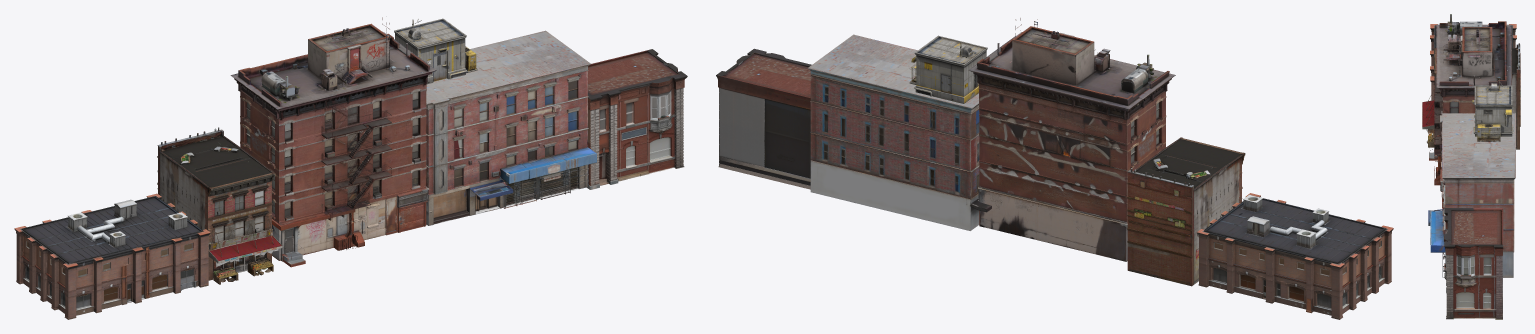
Rendered from All.fbx.
3 views of the same model, side by side, from view 1: azimuth 30°, elevation 25°; view 2: azimuth 150°, elevation 25°; view 3: azimuth 270°, elevation 25° (orthographic). The views are drawn at different scales.
Visible parts, largest first — view 1: base__3__Mesh, build6, build_5, build1, group14, base__1__Mesh; view 2: base__3__Mesh, build6, build_5, build1, group14, base__1__Mesh; view 3: build6, base__3__Mesh, group14, base__1__Mesh, build1, build_5.
Boxes of the visible parts, box(x1,y1,x2,y2) form: base__3__Mesh: box(230, 17, 436, 267); build6: box(426, 30, 596, 225); build_5: box(14, 193, 210, 319); build1: box(157, 127, 282, 284); group14: box(587, 49, 687, 189); base__1__Mesh: box(394, 18, 477, 84); base__3__Mesh: box(968, 18, 1175, 261); build6: box(808, 34, 991, 230); build_5: box(1196, 193, 1393, 319); build1: box(1127, 137, 1245, 286); group14: box(716, 48, 811, 189); base__1__Mesh: box(909, 35, 987, 103); build6: box(1428, 113, 1515, 277); base__3__Mesh: box(1429, 14, 1511, 209); group14: box(1444, 208, 1503, 319); base__1__Mesh: box(1472, 78, 1513, 141); build1: box(1422, 43, 1520, 149); build_5: box(1430, 24, 1516, 100).
Bounding box in the file's own units: 126 × 39.54 × 21.09.
